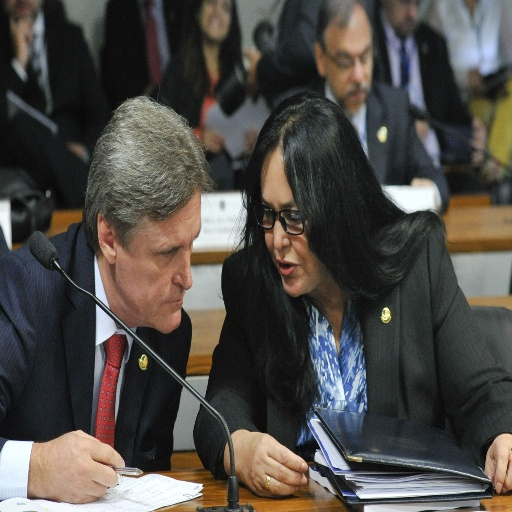hand: (35, 429, 127, 504), (238, 430, 309, 501), (483, 432, 511, 494), (9, 16, 35, 62), (410, 177, 439, 213), (199, 126, 225, 154), (471, 115, 487, 160), (242, 129, 259, 160), (413, 115, 430, 142)
